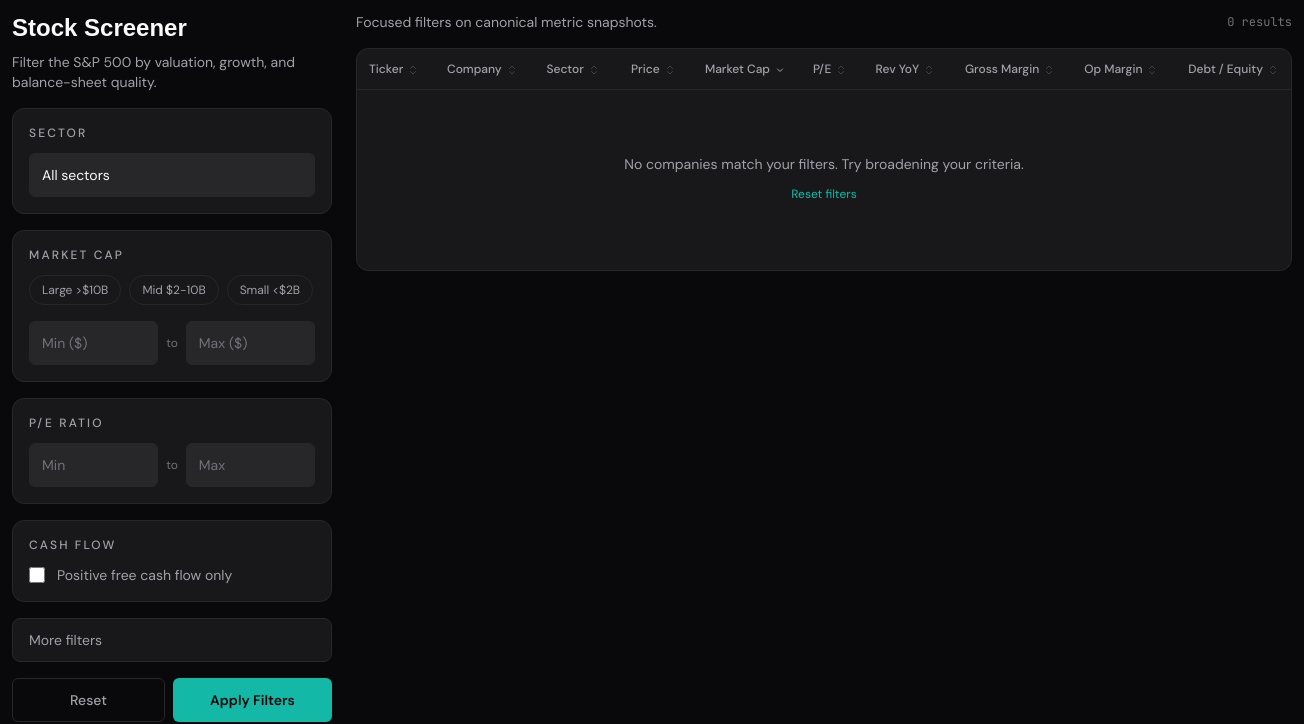
Test: ScreenerPage › reveals advanced filters behind More filters
What coordinates should you click on to do the following:
click the button "More filters"
I would click on:
 (66, 640)
Its box is [12,618,332,662].
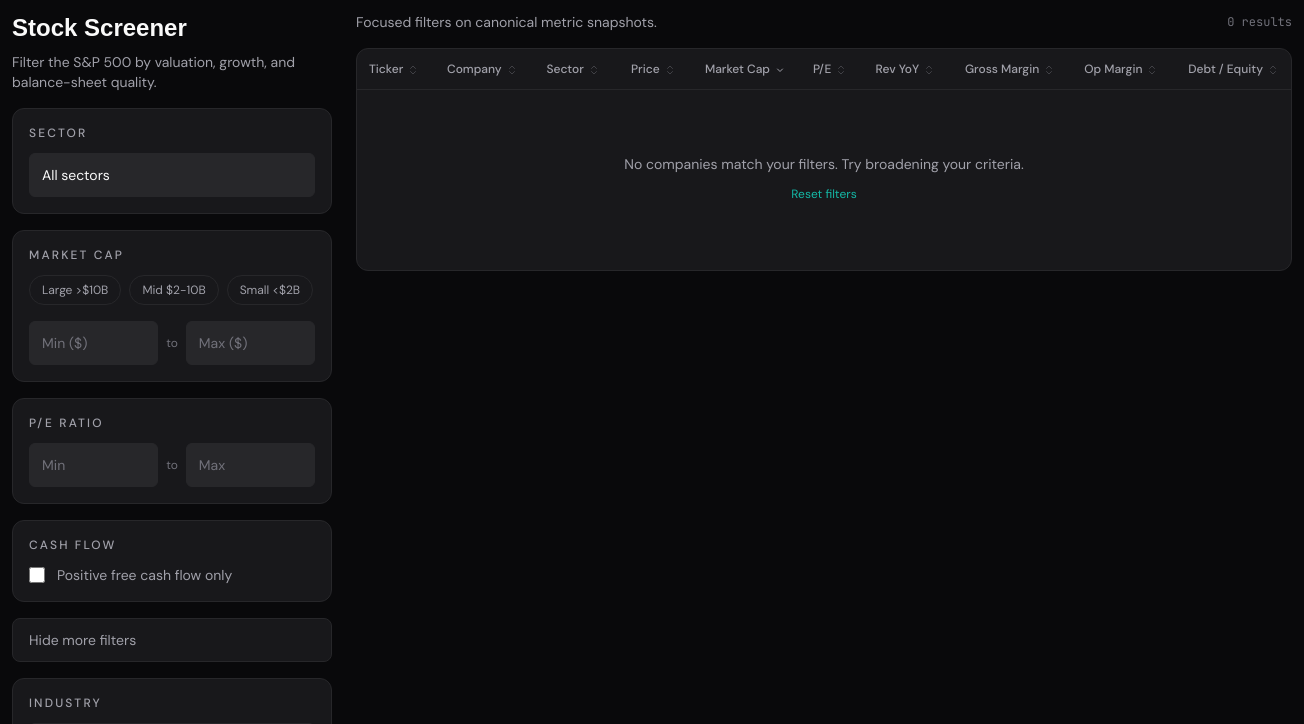
Expected: the button "Hide more filters" is shown, [12,618,332,662]
